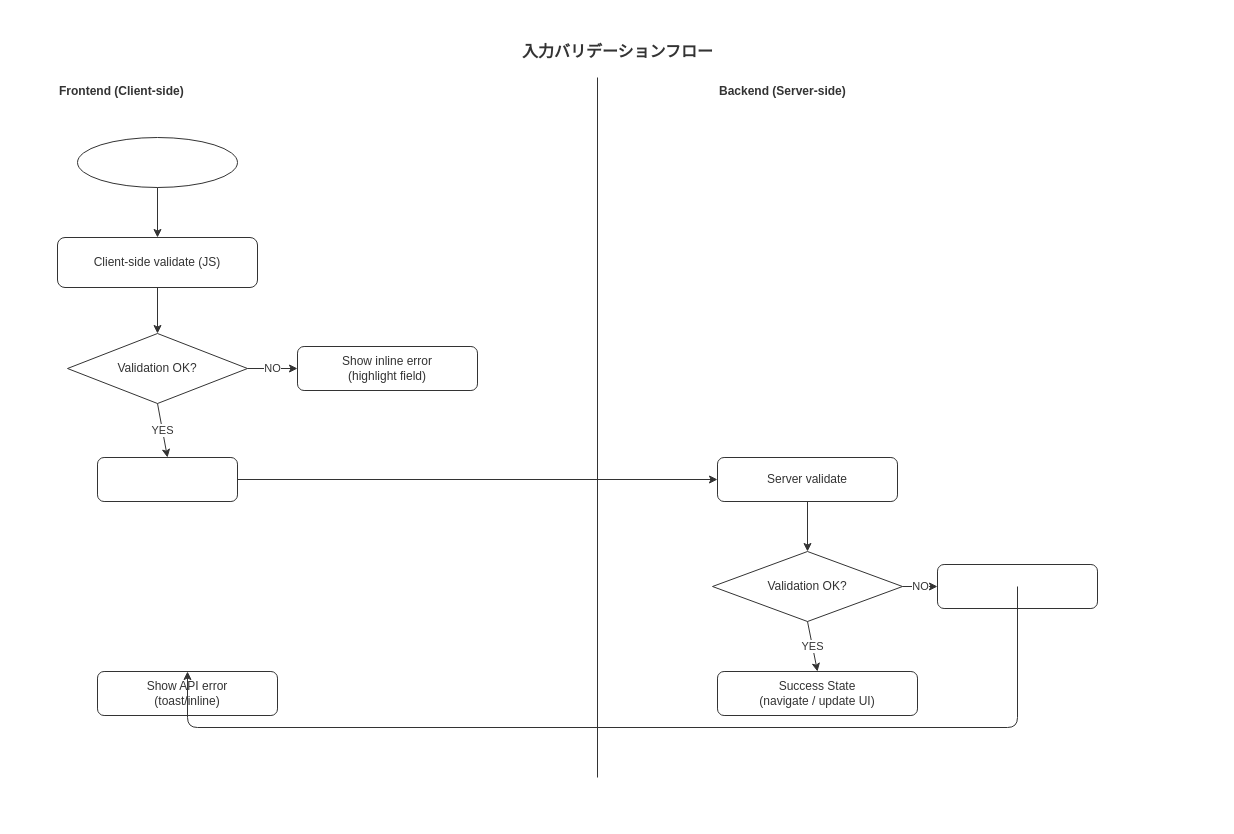
This 1234x834 diagram has some shape labels left out. The box of each missing label's shape, as (x1, y1, x2, y2) in pixels:
API Call: (96, 456, 238, 502)
Return 422 error details: (936, 564, 1098, 608)
User Input: (76, 136, 238, 188)
